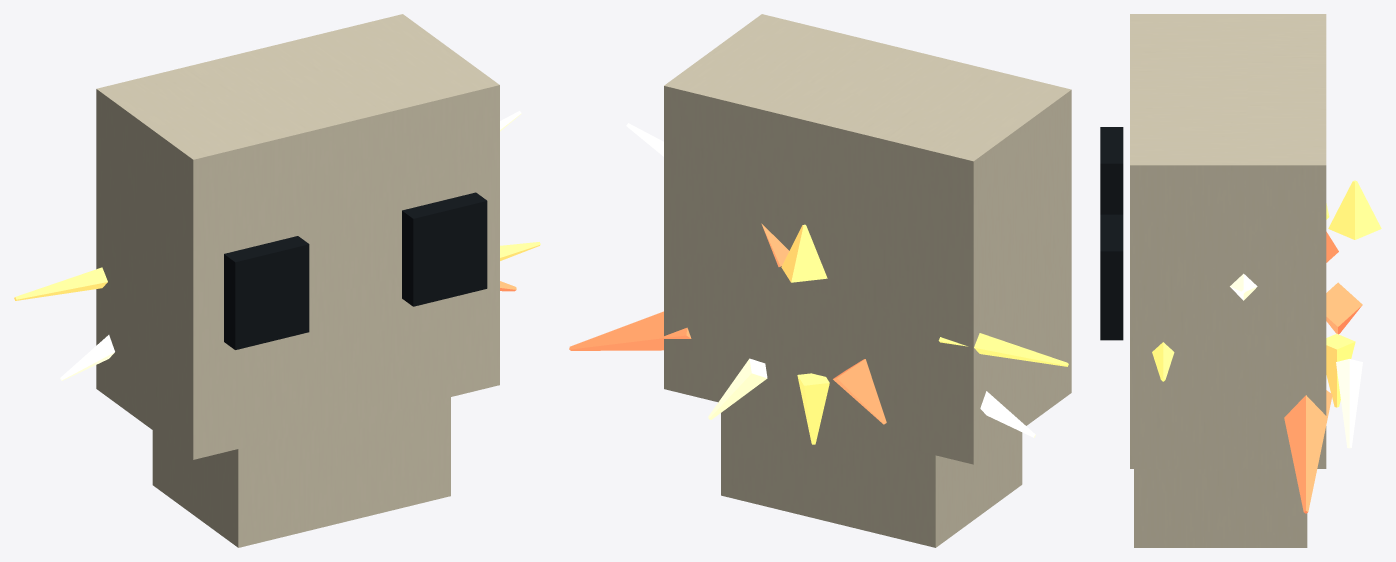
Rendered from skull.glb.
The picture shows the model from 3 angles, left to right: view 1: azimuth 30°, elevation 25°; view 2: azimuth 150°, elevation 25°; view 3: azimuth 270°, elevation 25°; orthographic projection.
Visible parts, largest first — view 1: Skull Pop dimensional effect.001; view 2: Skull Pop dimensional effect.001; view 3: Skull Pop dimensional effect.001.
Part boxes in pixels (left/top/right/bottom): Skull Pop dimensional effect.001: left=14, top=14, right=540, bottom=547; Skull Pop dimensional effect.001: left=569, top=14, right=1071, bottom=547; Skull Pop dimensional effect.001: left=1100, top=14, right=1381, bottom=547.
Size of the model in its own units: 1.51 by 1.16 by 0.7311.
Materials: 5 (2 with a texture image).
